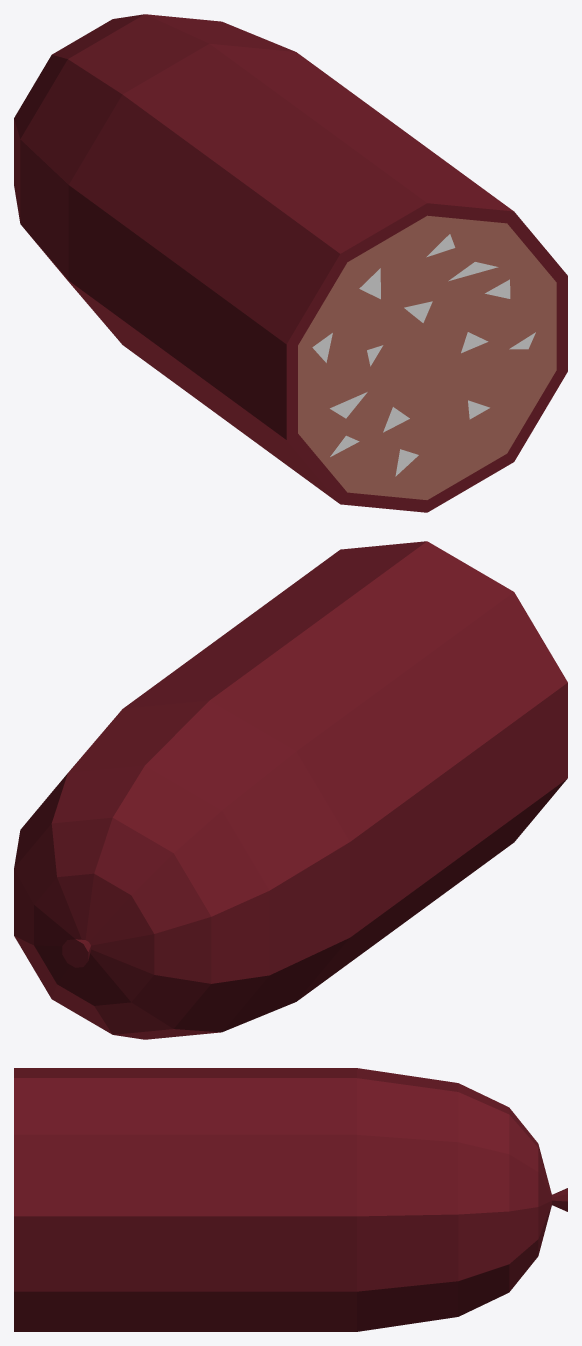
File: SausageCut.fbx
3 renders of one model, top to bottom at view 1: azimuth 30°, elevation 25°; view 2: azimuth 150°, elevation 25°; view 3: azimuth 270°, elevation 25°, orthographic. The views are drawn at different scales.
Parts seen in each view (by area): view 1: Cylinder.018, Cylinder.020, Cylinder.019; view 2: Cylinder.018; view 3: Cylinder.018.
Part boxes in pixels (x1,y1,x2,y2): Cylinder.018: [14, 14, 567, 512]; Cylinder.020: [298, 215, 556, 499]; Cylinder.019: [312, 234, 535, 476]; Cylinder.018: [14, 541, 567, 1039]; Cylinder.018: [14, 1068, 567, 1331].
Bounding box in the file's own units: 29.07 × 30.56 × 62.96.
